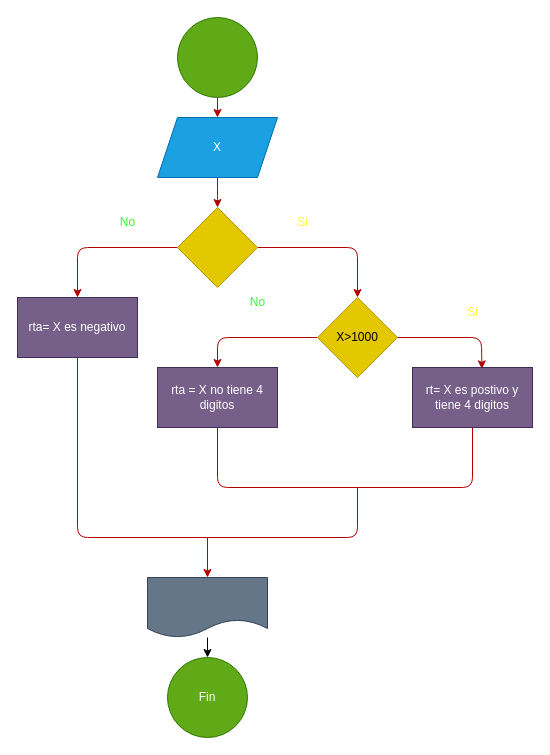
The diagram is 550 pixels wide and 755 high, and some of its shapes have lost their labels. The shapes that lost their labels are listed below. From the top down, each one's centre as x and y in pixels, then its label:
At point (217, 57): "Inicio".
At point (217, 247): "X>0".
At point (207, 607): "rta".
